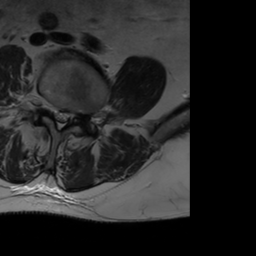CCS_normal: (57, 104, 64, 135)
LFS_severe_stenosis: (72, 105, 80, 123)
LLS_stenosis: (64, 106, 72, 129)
RFS_normal: (43, 90, 50, 115)
RLS_normal: (49, 102, 57, 127)
